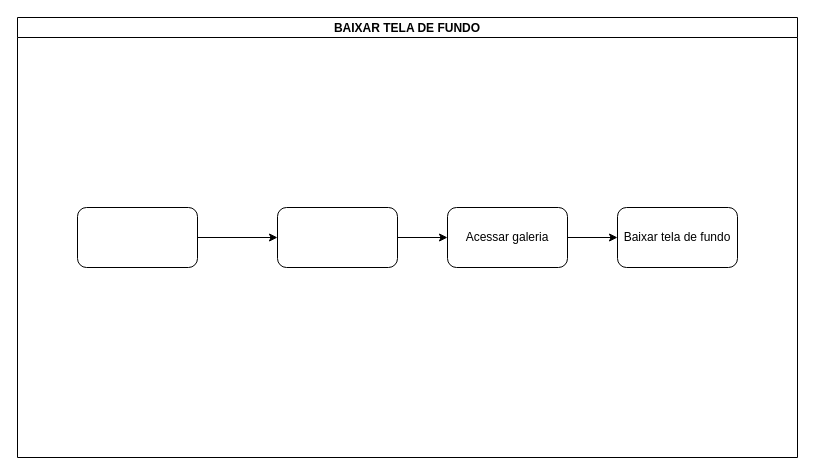
Image size: 815x475. Some labels were removed from this diagram. Each missing label, with the centre of its shape:
Home: (137,237)
Tela de Fundo: (337,237)
